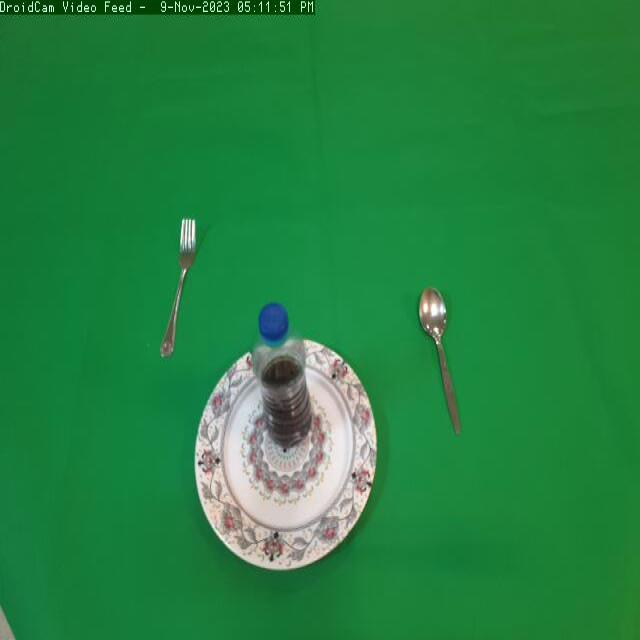fork: (155, 211, 210, 366)
fullbottle: (249, 295, 319, 467)
plate: (188, 335, 386, 586)
spoon: (413, 270, 477, 447)
